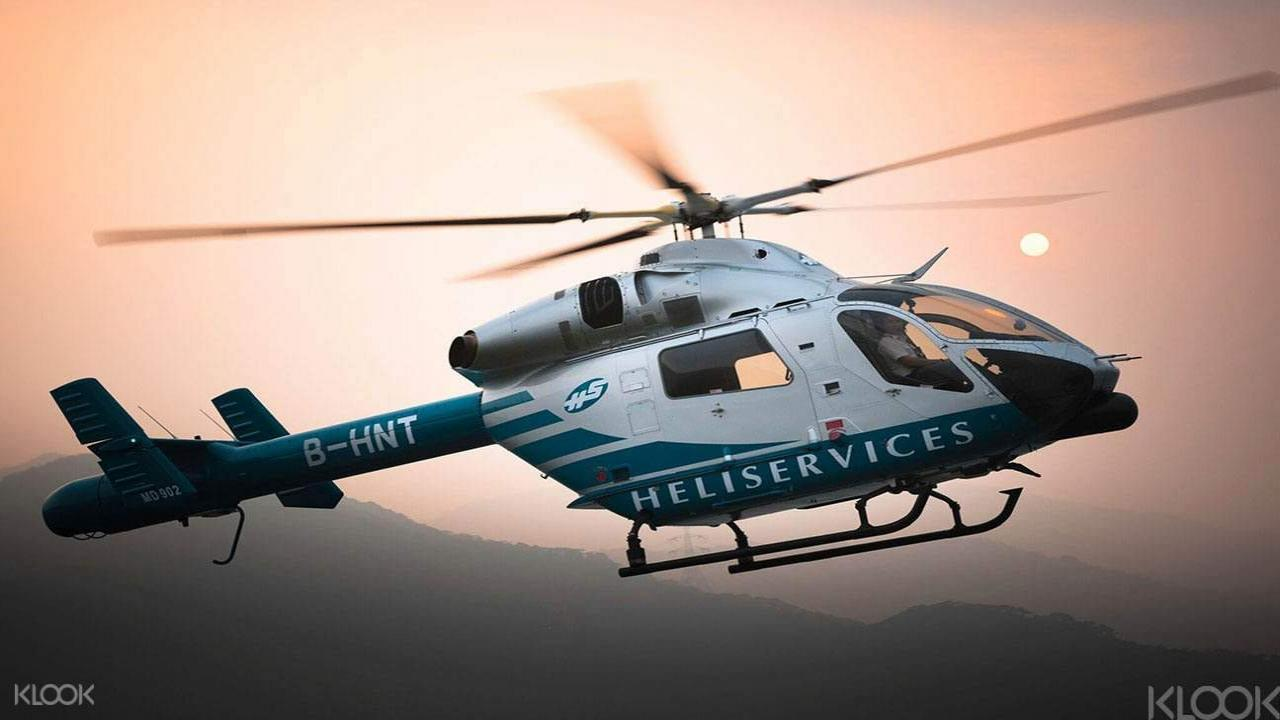Helicopter: (24, 69, 1280, 591)
